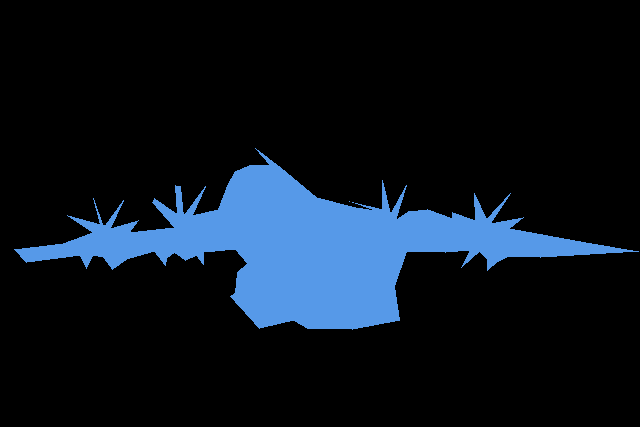Airplane: (14, 148, 639, 329)
